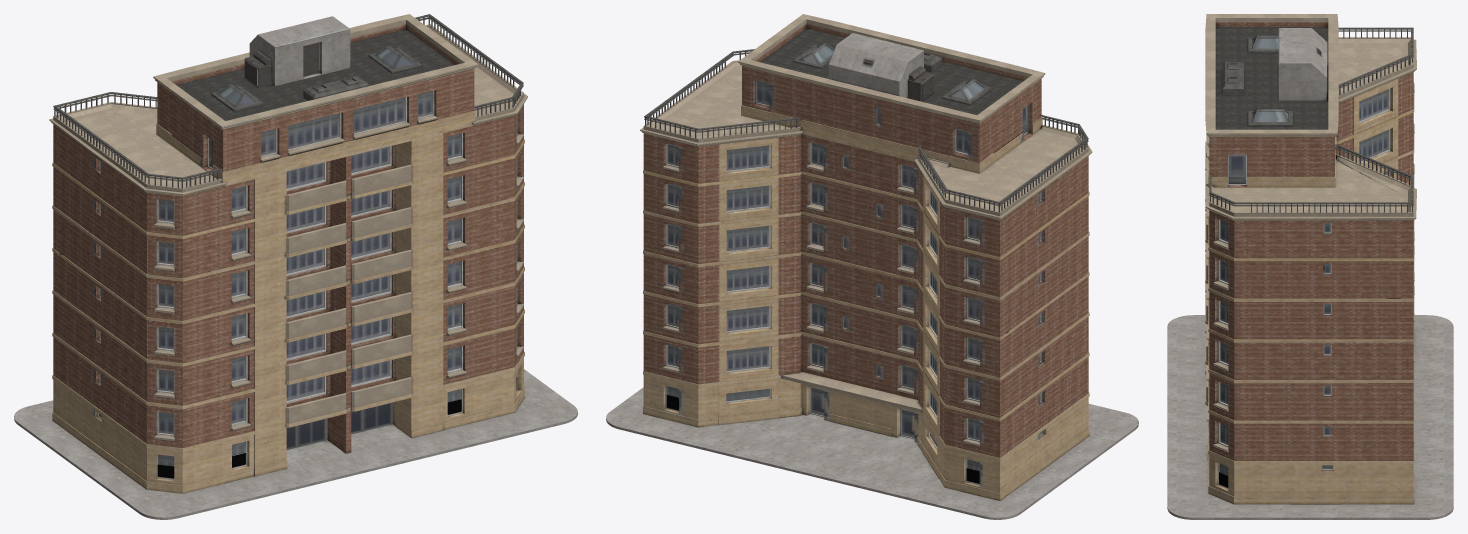
Rendered from bld22_04.glb.
3 views of the same model, side by side, from view 1: azimuth 30°, elevation 25°; view 2: azimuth 150°, elevation 25°; view 3: azimuth 270°, elevation 25° (orthographic). The views are drawn at different scales.
Visible parts, largest first — view 1: bld22_04; view 2: bld22_04; view 3: bld22_04.
Part boxes in pixels (left/top/right/bottom): bld22_04: left=14, top=14, right=577, bottom=519; bld22_04: left=606, top=14, right=1138, bottom=519; bld22_04: left=1167, top=14, right=1453, bottom=519.
Bounding box in the file's own units: 58.01 × 49.88 × 34.63.
1 material, 1 textured.
